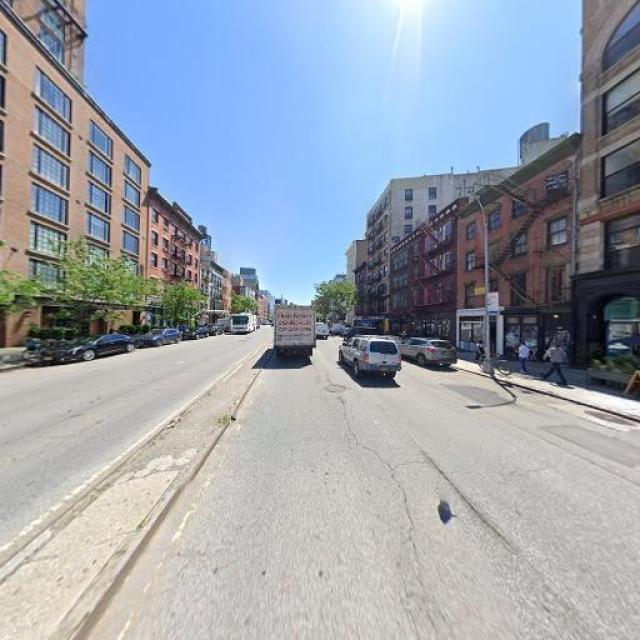Building: (1, 1, 149, 344), (459, 137, 572, 368), (579, 1, 640, 379), (390, 207, 455, 348), (152, 188, 198, 330)
